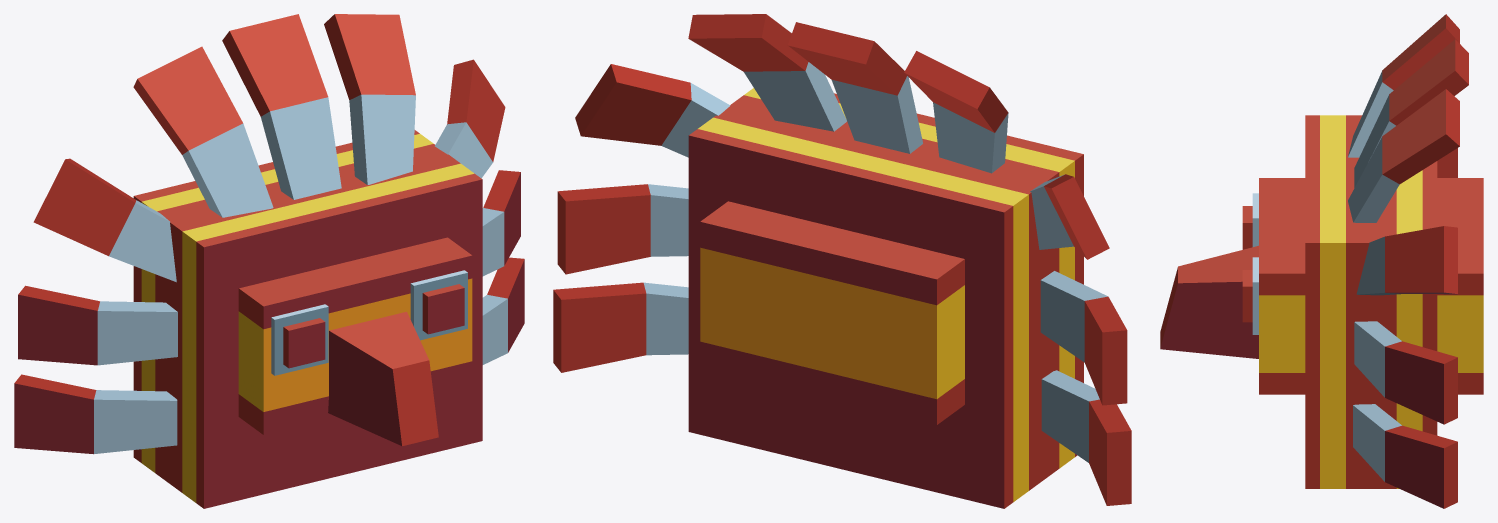
The model's file is headdress_bird.fbx.
3 renders of one model, left to right at view 1: azimuth 30°, elevation 25°; view 2: azimuth 150°, elevation 25°; view 3: azimuth 270°, elevation 25°, orthographic. The views are drawn at different scales.
Parts seen in each view (by area): view 1: Headdress_Bird; view 2: Headdress_Bird; view 3: Headdress_Bird.
Boxes of the visible parts, x1=… form: Headdress_Bird: x1=14, y1=14, x2=524, y2=508; Headdress_Bird: x1=553, y1=14, x2=1131, y2=508; Headdress_Bird: x1=1160, y1=14, x2=1483, y2=508.
Size of the model in its own units: 71.28 by 90.04 by 122.
